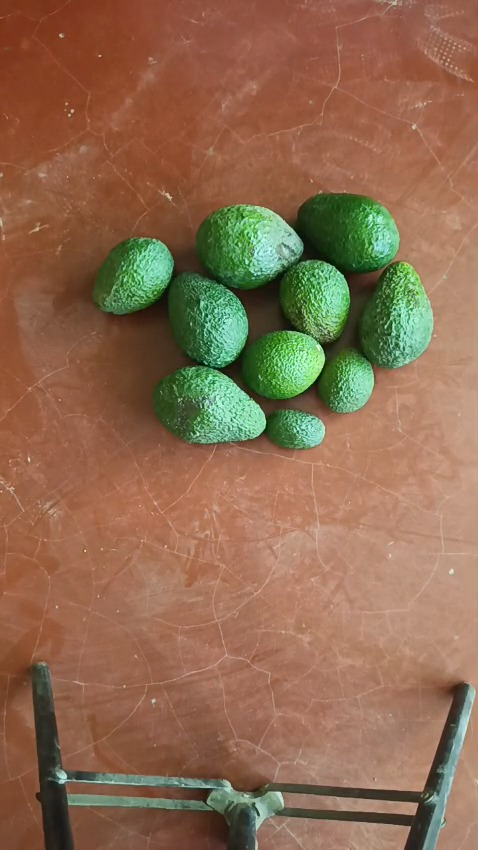Primera: (196, 205, 304, 290), (152, 366, 265, 443), (295, 192, 399, 274), (359, 261, 434, 368), (167, 271, 250, 366)
Segunda: (92, 237, 174, 315), (279, 260, 351, 345), (240, 330, 325, 400)
Tercera: (317, 348, 374, 413), (264, 409, 324, 450)
